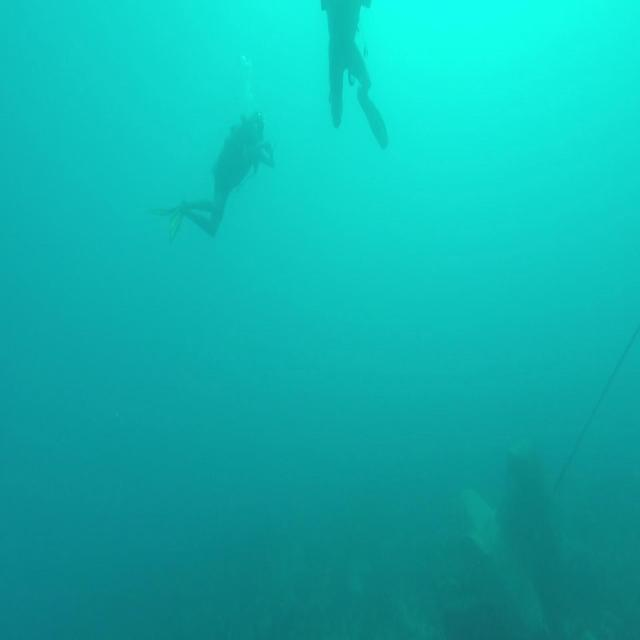human: (148, 106, 274, 242), (319, 0, 389, 151)
